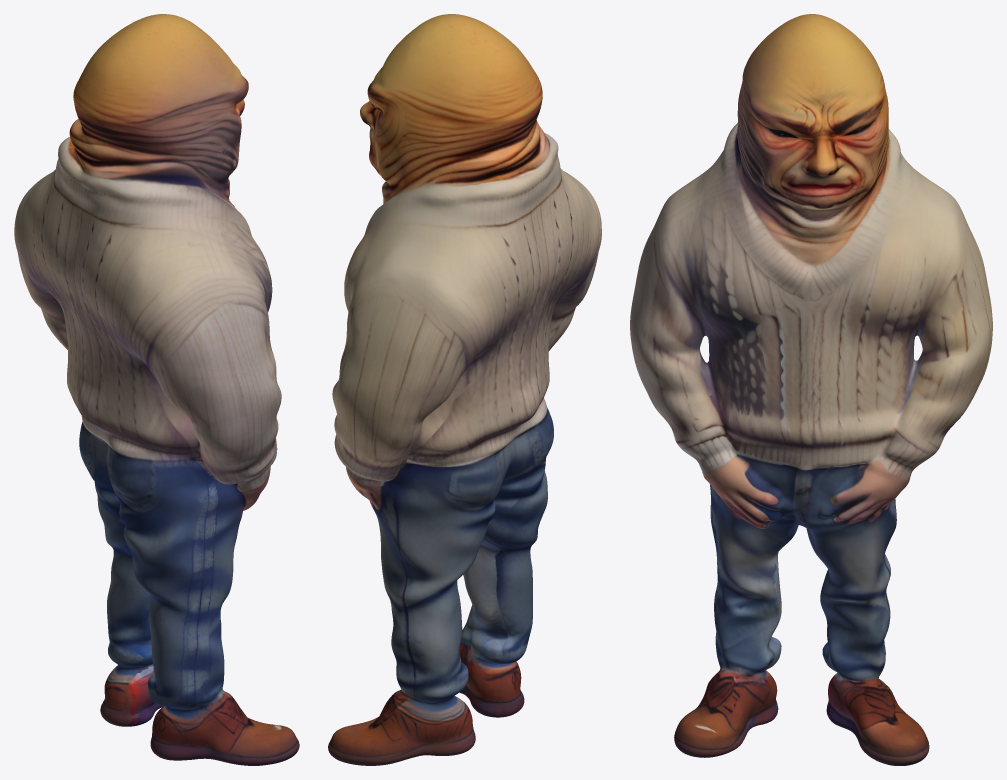
The picture shows the model from 3 angles, left to right: view 1: azimuth 30°, elevation 25°; view 2: azimuth 150°, elevation 25°; view 3: azimuth 270°, elevation 25°; orthographic projection.
Visible parts, largest first — view 1: tripo_node_f7f50d75-b69a-4a0c-99ee-437936ebf896; view 2: tripo_node_f7f50d75-b69a-4a0c-99ee-437936ebf896; view 3: tripo_node_f7f50d75-b69a-4a0c-99ee-437936ebf896.
Boxes of the visible parts, x1,y1,x2,y2 form: tripo_node_f7f50d75-b69a-4a0c-99ee-437936ebf896: (14,14,299,765); tripo_node_f7f50d75-b69a-4a0c-99ee-437936ebf896: (328,14,601,765); tripo_node_f7f50d75-b69a-4a0c-99ee-437936ebf896: (630,14,992,765).
Size of the model in its own units: 0.2479 by 0.9485 by 0.4376.
Materials: 1 (1 with a texture image).
